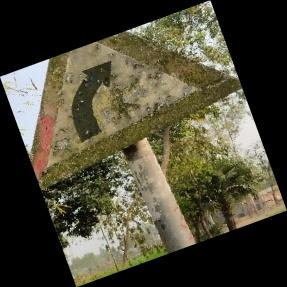Right-turn: (30, 23, 244, 186)
